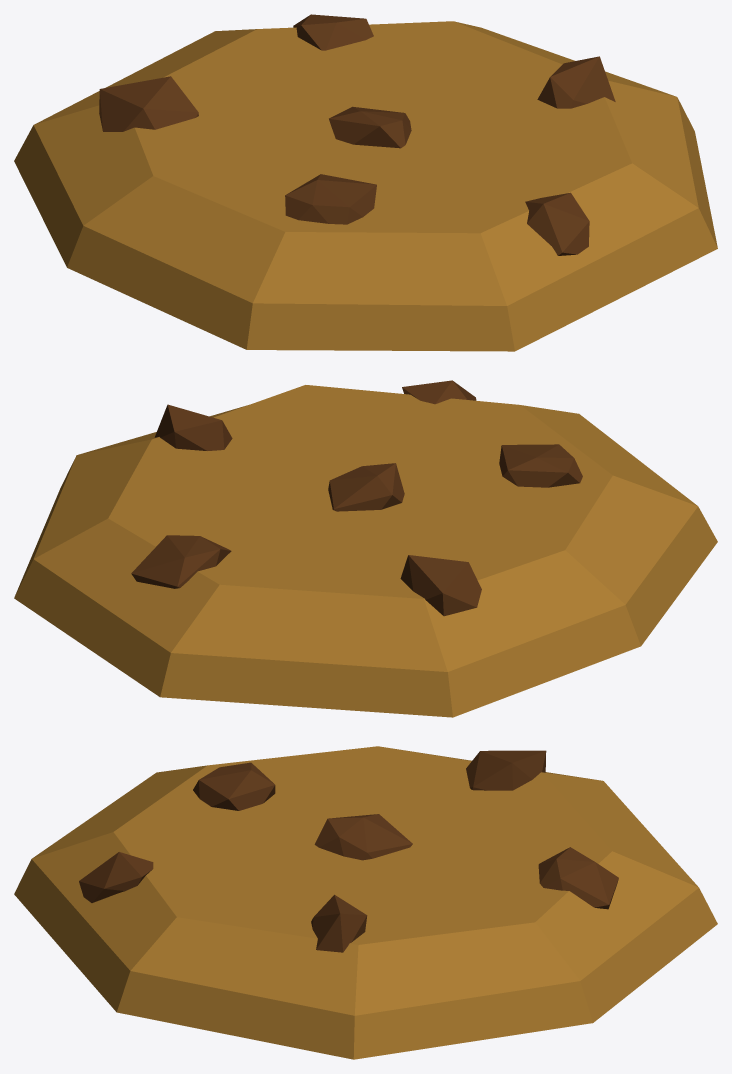
Rendered from Cookie.fbx.
3 renders of one model, top to bottom at view 1: azimuth 30°, elevation 25°; view 2: azimuth 150°, elevation 25°; view 3: azimuth 270°, elevation 25°, orthographic. The views are drawn at different scales.
Parts seen in each view (by area): view 1: Cookies; view 2: Cookies; view 3: Cookies.
Part boxes in pixels (x1,y1,x2,y2): Cookies: [14, 14, 717, 351]; Cookies: [14, 380, 717, 717]; Cookies: [14, 746, 717, 1059].
Bounding box in the file's own units: 22.64 × 3.73 × 24.02.
Materials: 1 (1 with a texture image).
